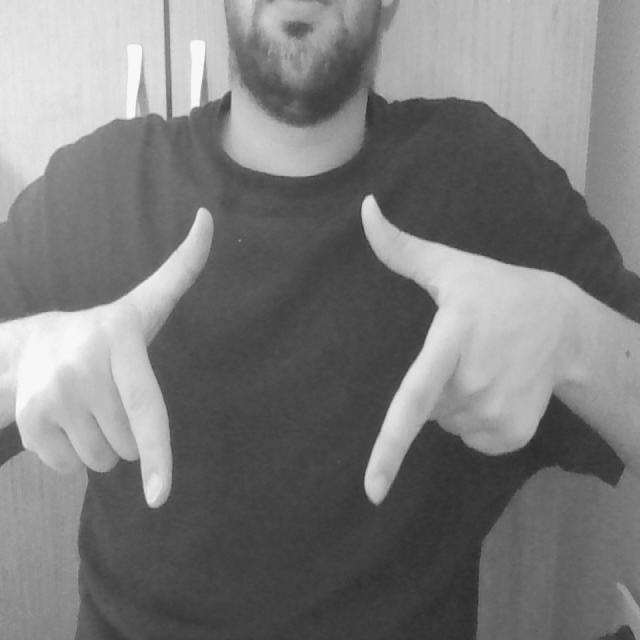Nerede: (107, 188, 466, 514)
